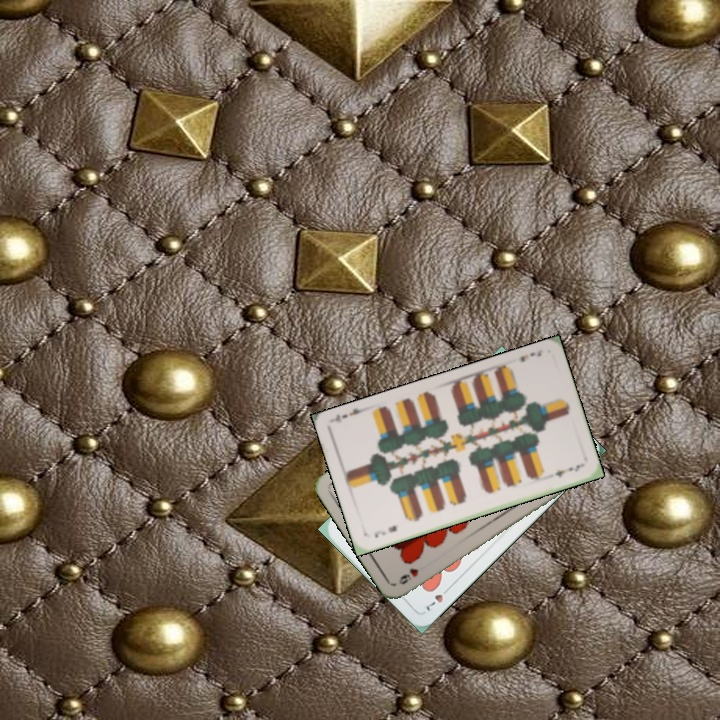E7: (370, 521, 400, 540), (516, 346, 546, 365)
H7: (422, 582, 453, 614)
H9: (395, 564, 421, 587)
